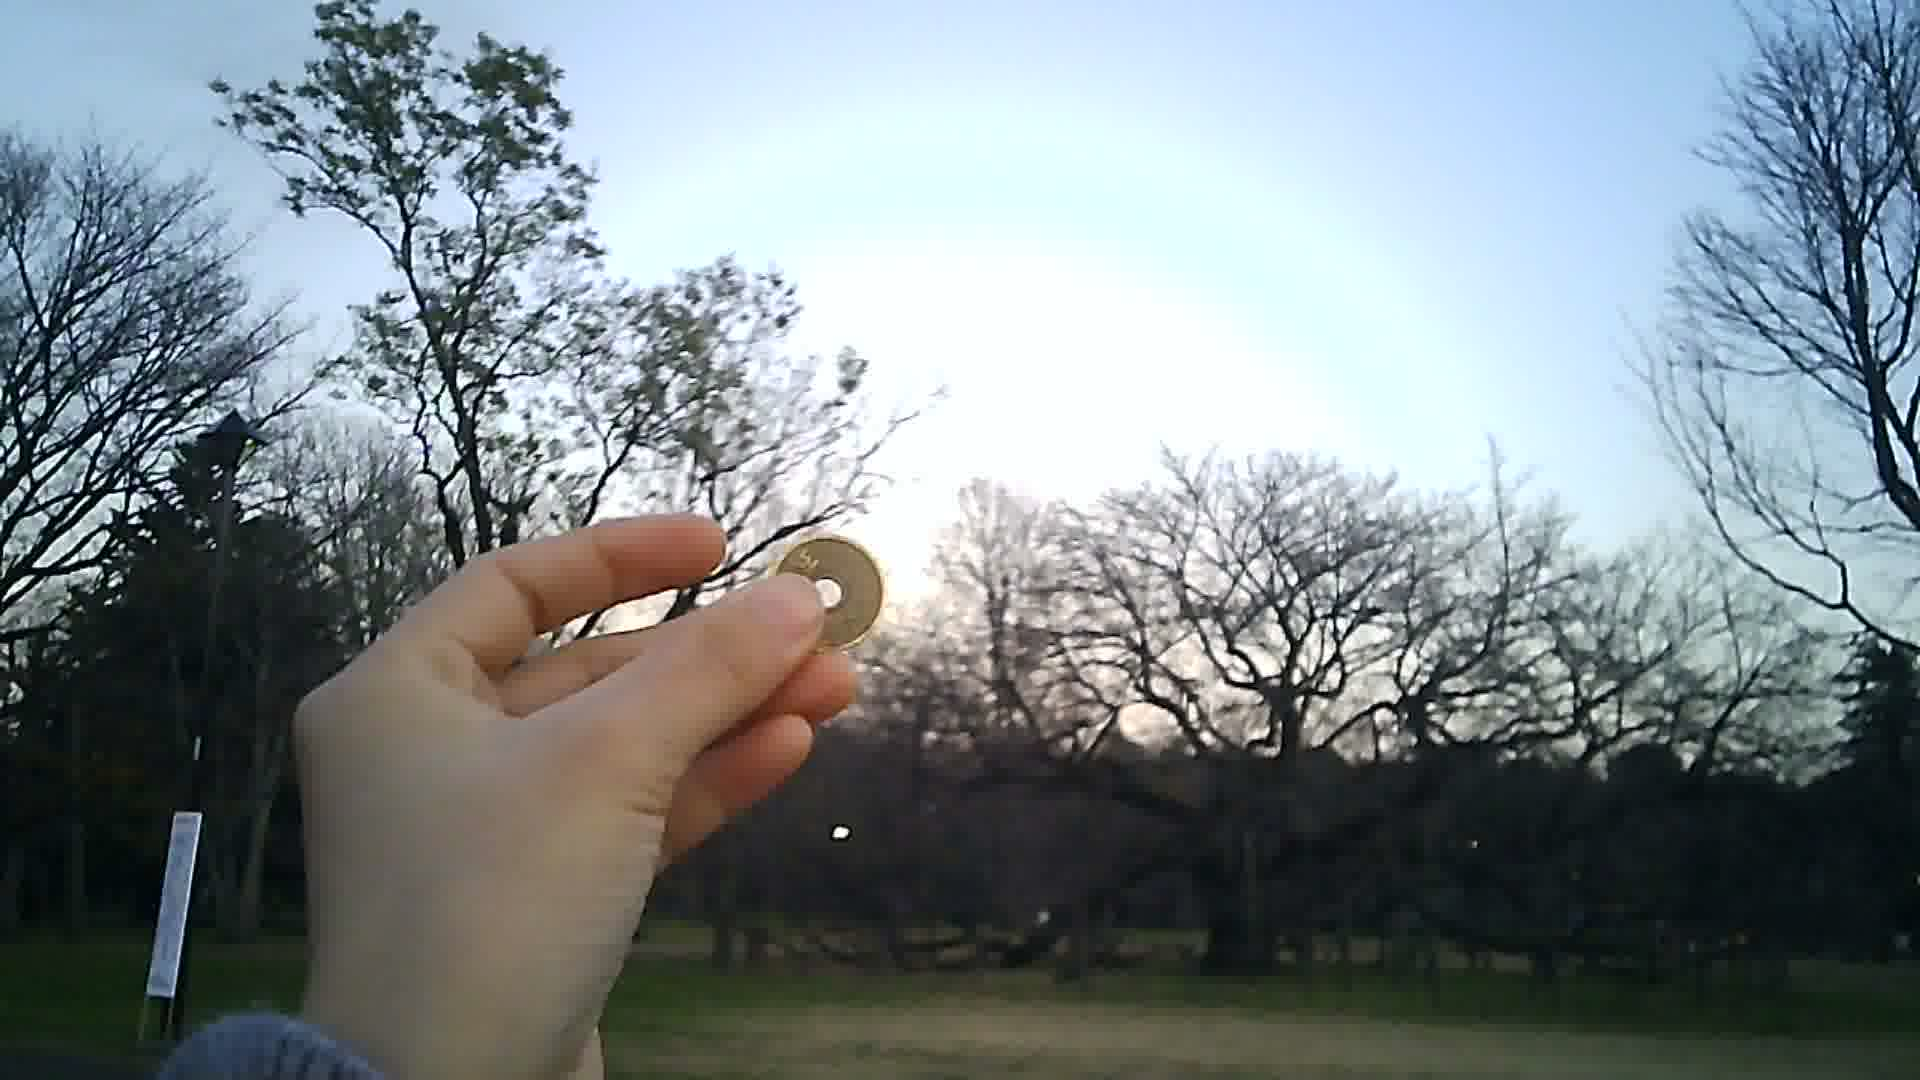5 Yen: (767, 541, 893, 641)
